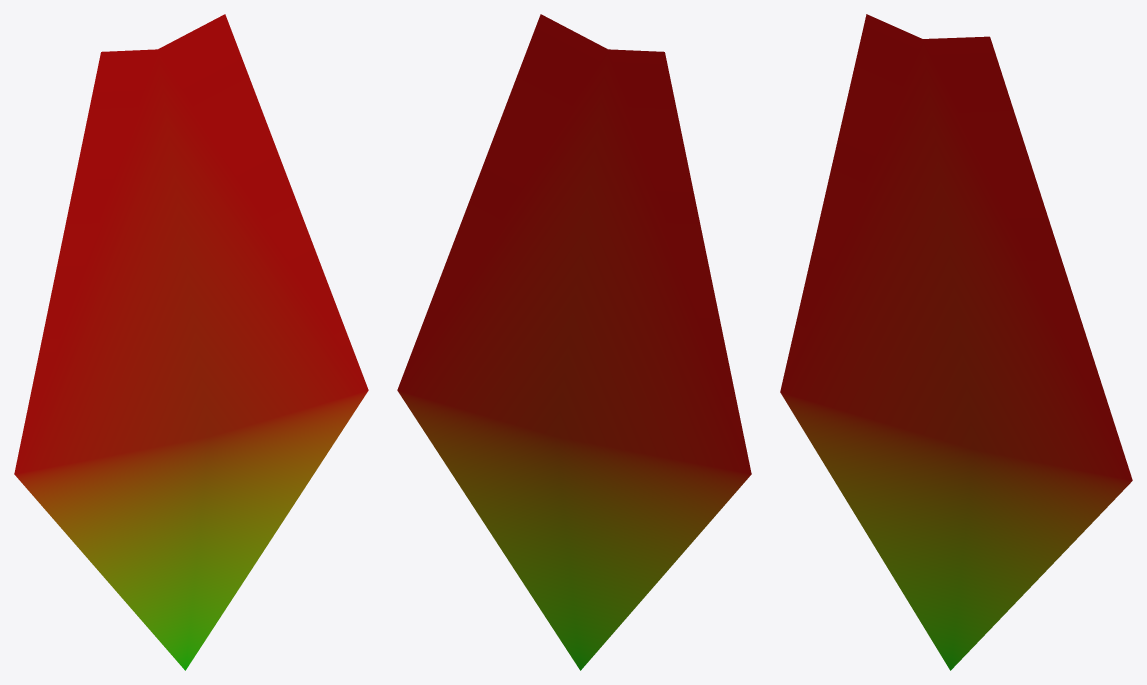
The model's file is Field Poppy_LOD4_Var12_vmcobd0ja.fbx.
3 views of the same model, side by side, from view 1: azimuth 30°, elevation 25°; view 2: azimuth 150°, elevation 25°; view 3: azimuth 330°, elevation 25° (orthographic).
Visible parts, largest first — view 1: _qydc_Var12_LOD4; view 2: _qydc_Var12_LOD4; view 3: _qydc_Var12_LOD4.
Boxes of the visible parts, x1,y1,x2,y2 form: _qydc_Var12_LOD4: [14, 14, 368, 670]; _qydc_Var12_LOD4: [397, 14, 751, 670]; _qydc_Var12_LOD4: [780, 14, 1132, 670].
Bounding box in the file's own units: 28.88 × 50.39 × 6.01e-06.
